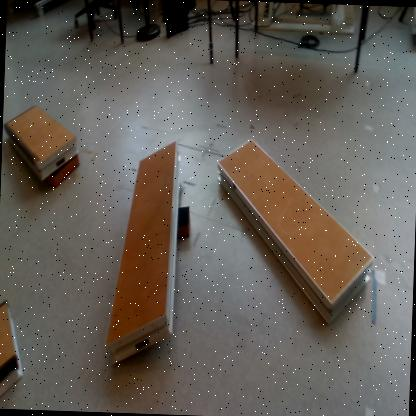Stairs: (218, 140, 375, 328), (107, 141, 182, 364), (5, 107, 79, 182), (1, 301, 25, 400)
